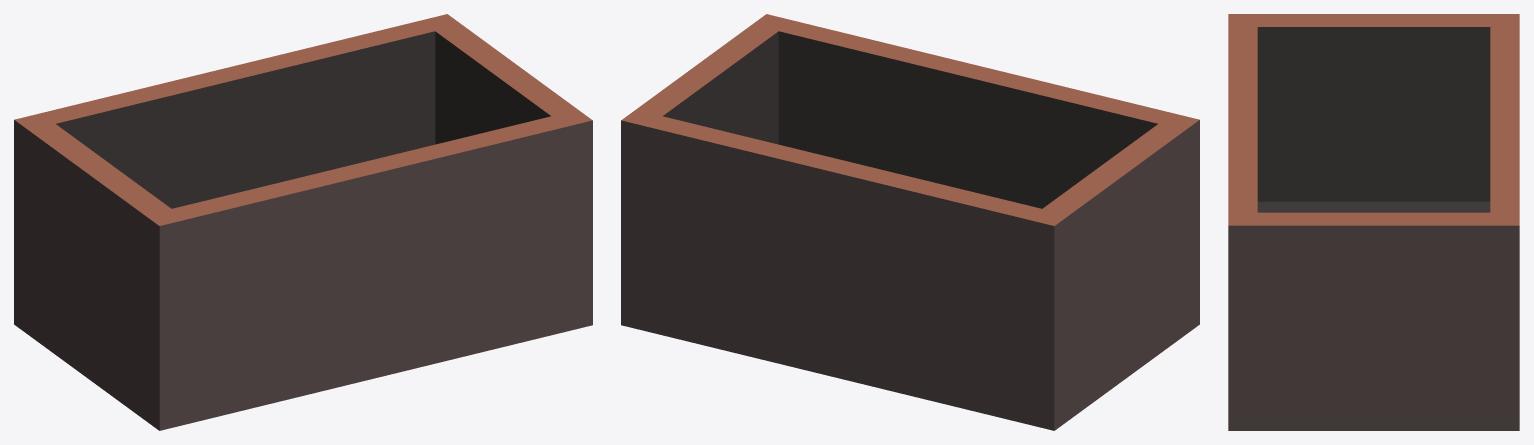
The model's file is TB_Prop_BoxBase_A.FBX.
3 renders of one model, left to right at view 1: azimuth 30°, elevation 25°; view 2: azimuth 150°, elevation 25°; view 3: azimuth 270°, elevation 25°, orthographic.
Parts seen in each view (by area): view 1: TB_Prop_BoxBase_A; view 2: TB_Prop_BoxBase_A; view 3: TB_Prop_BoxBase_A.
Part boxes in pixels (left/top/right/bottom): TB_Prop_BoxBase_A: left=14, top=14, right=592, bottom=430; TB_Prop_BoxBase_A: left=621, top=14, right=1199, bottom=430; TB_Prop_BoxBase_A: left=1228, top=14, right=1519, bottom=430.
Bounding box in the file's own units: 1.24 × 0.5591 × 0.7192.
